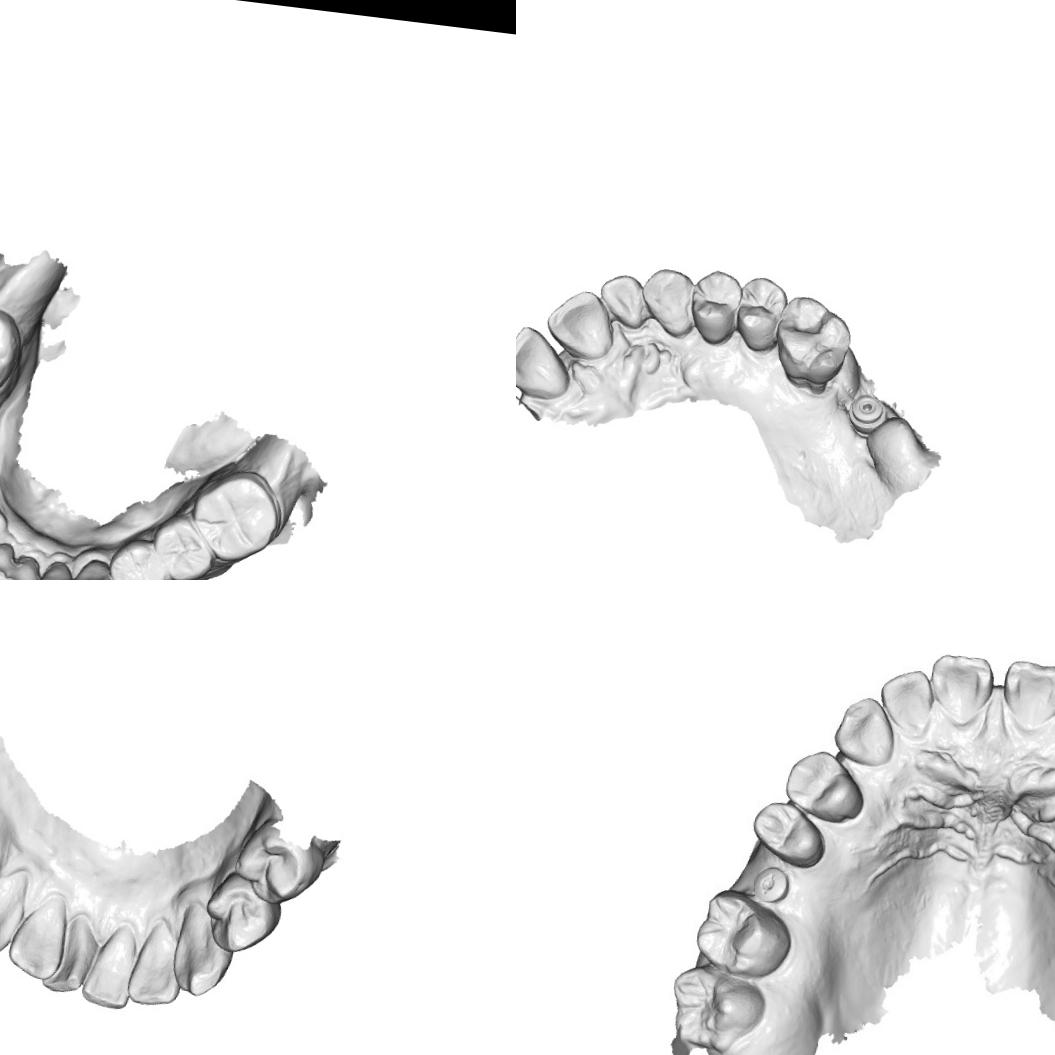canine: (168, 905, 238, 1000), (634, 265, 706, 343), (829, 691, 899, 770), (0, 871, 30, 962), (66, 554, 122, 580)
implant: (843, 390, 890, 430)
implant_minus: (749, 858, 793, 908)
incisor: (540, 284, 619, 362), (924, 649, 999, 729), (123, 922, 187, 1010), (5, 899, 65, 983), (79, 931, 140, 1011), (873, 664, 938, 738), (40, 912, 97, 994), (516, 320, 573, 401), (996, 656, 1055, 733), (595, 269, 647, 331), (0, 552, 43, 580), (33, 556, 76, 580), (0, 537, 18, 580)
molar: (688, 885, 800, 986), (186, 464, 286, 568), (662, 961, 769, 1055), (767, 292, 858, 399), (0, 296, 25, 392)
premolar: (231, 823, 324, 910), (778, 744, 872, 830), (200, 870, 283, 958), (746, 795, 830, 871), (730, 272, 790, 357), (147, 511, 218, 580), (686, 264, 744, 348), (103, 535, 177, 580)
